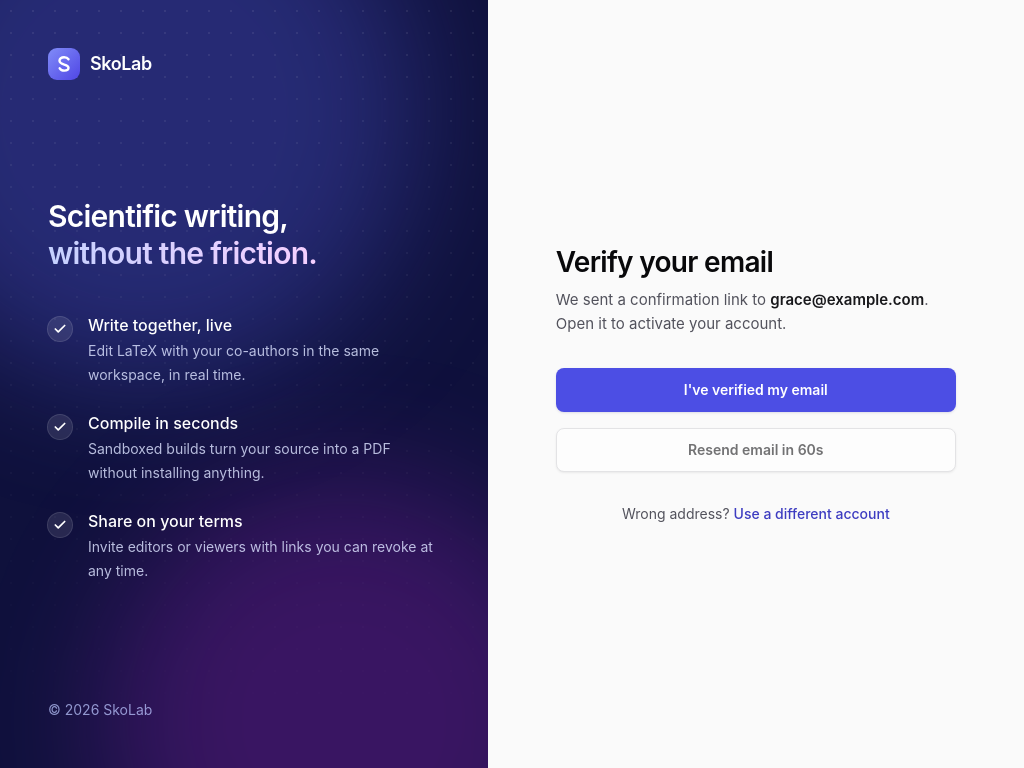
Test case: verify email › says when the address is not verified yet, then continues once it is
This screenshot has width=1024, height=768.
Click the button "I've verified my email": (756, 390) [556,368,956,412]
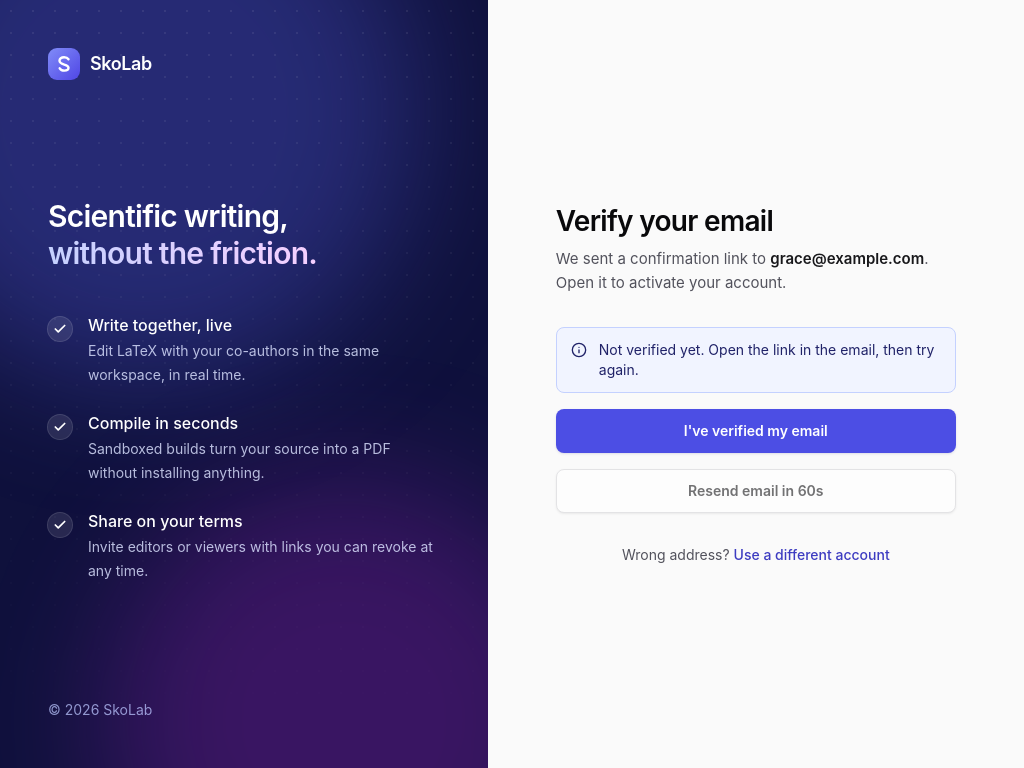
Now the message shows "Not verified yet", box [599,340,934,378]
Click the button "I've verified my email": (756, 430) [556,408,956,452]
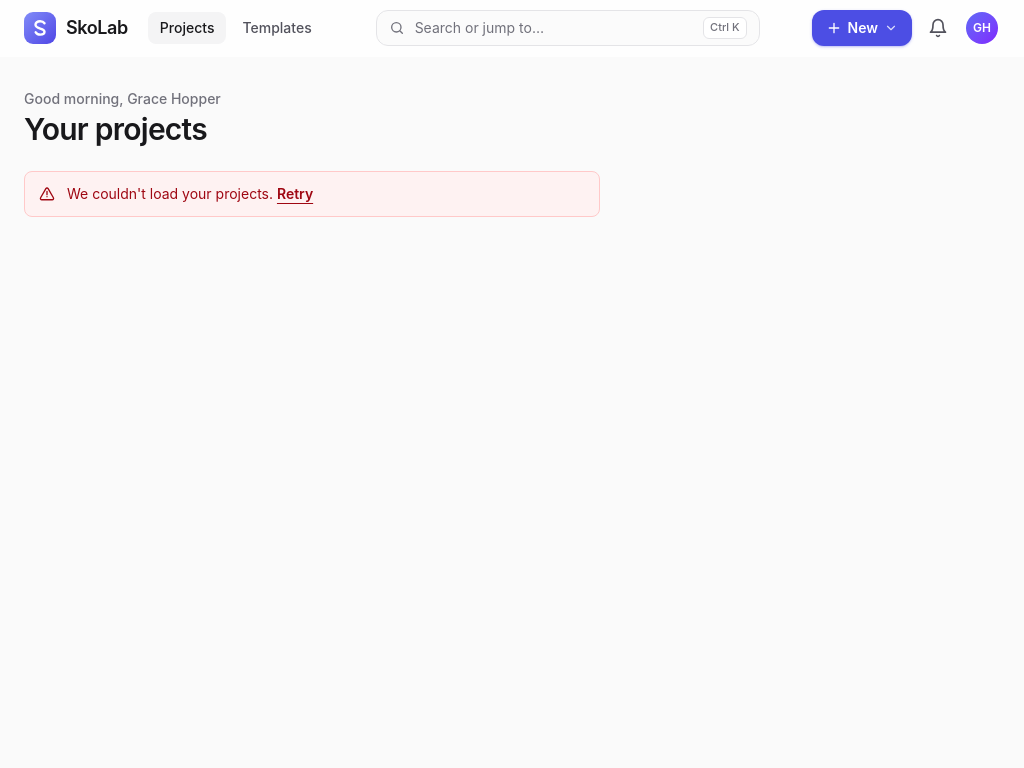
Now the heading "Your projects" is shown, box [24,111,221,147]
